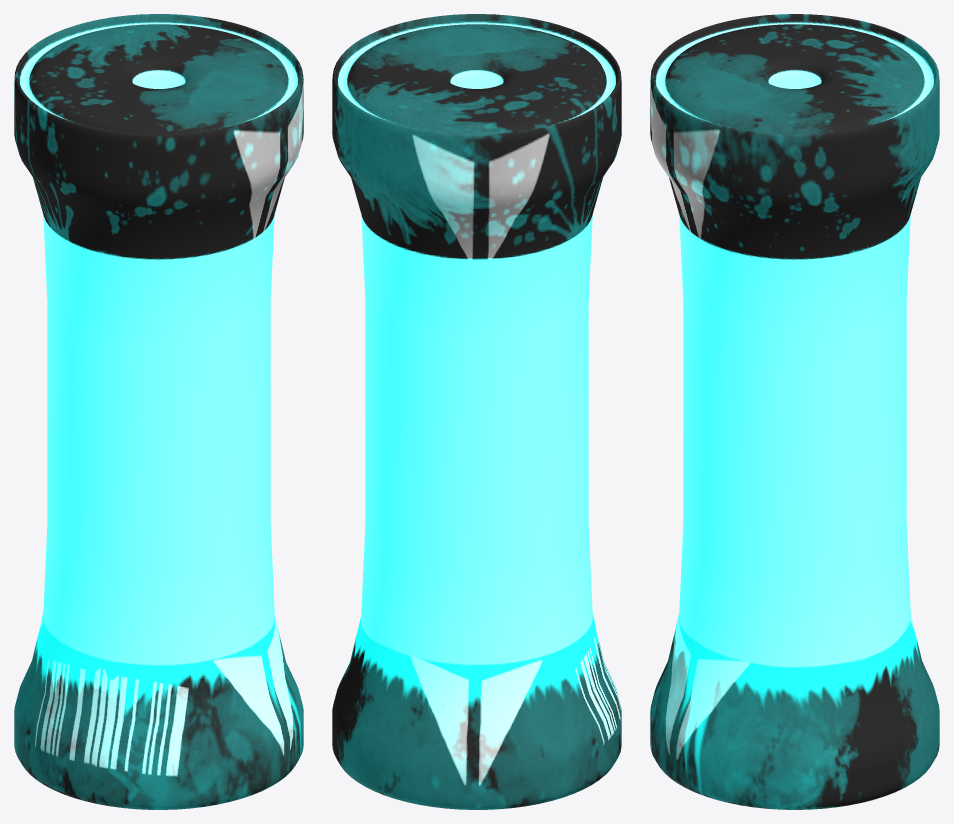
The model's file is battery.glb.
3 renders of one model, left to right at view 1: azimuth 30°, elevation 25°; view 2: azimuth 150°, elevation 25°; view 3: azimuth 270°, elevation 25°, orthographic.
Parts seen in each view (by area): view 1: Object_2; view 2: Object_2; view 3: Object_2.
Boxes of the visible parts, x1,y1,x2,y2 form: Object_2: (14,14,303,809); Object_2: (332,14,621,809); Object_2: (650,14,939,809).
Size of the model in its own units: 119 by 309 by 119.
1 material, 1 textured.
